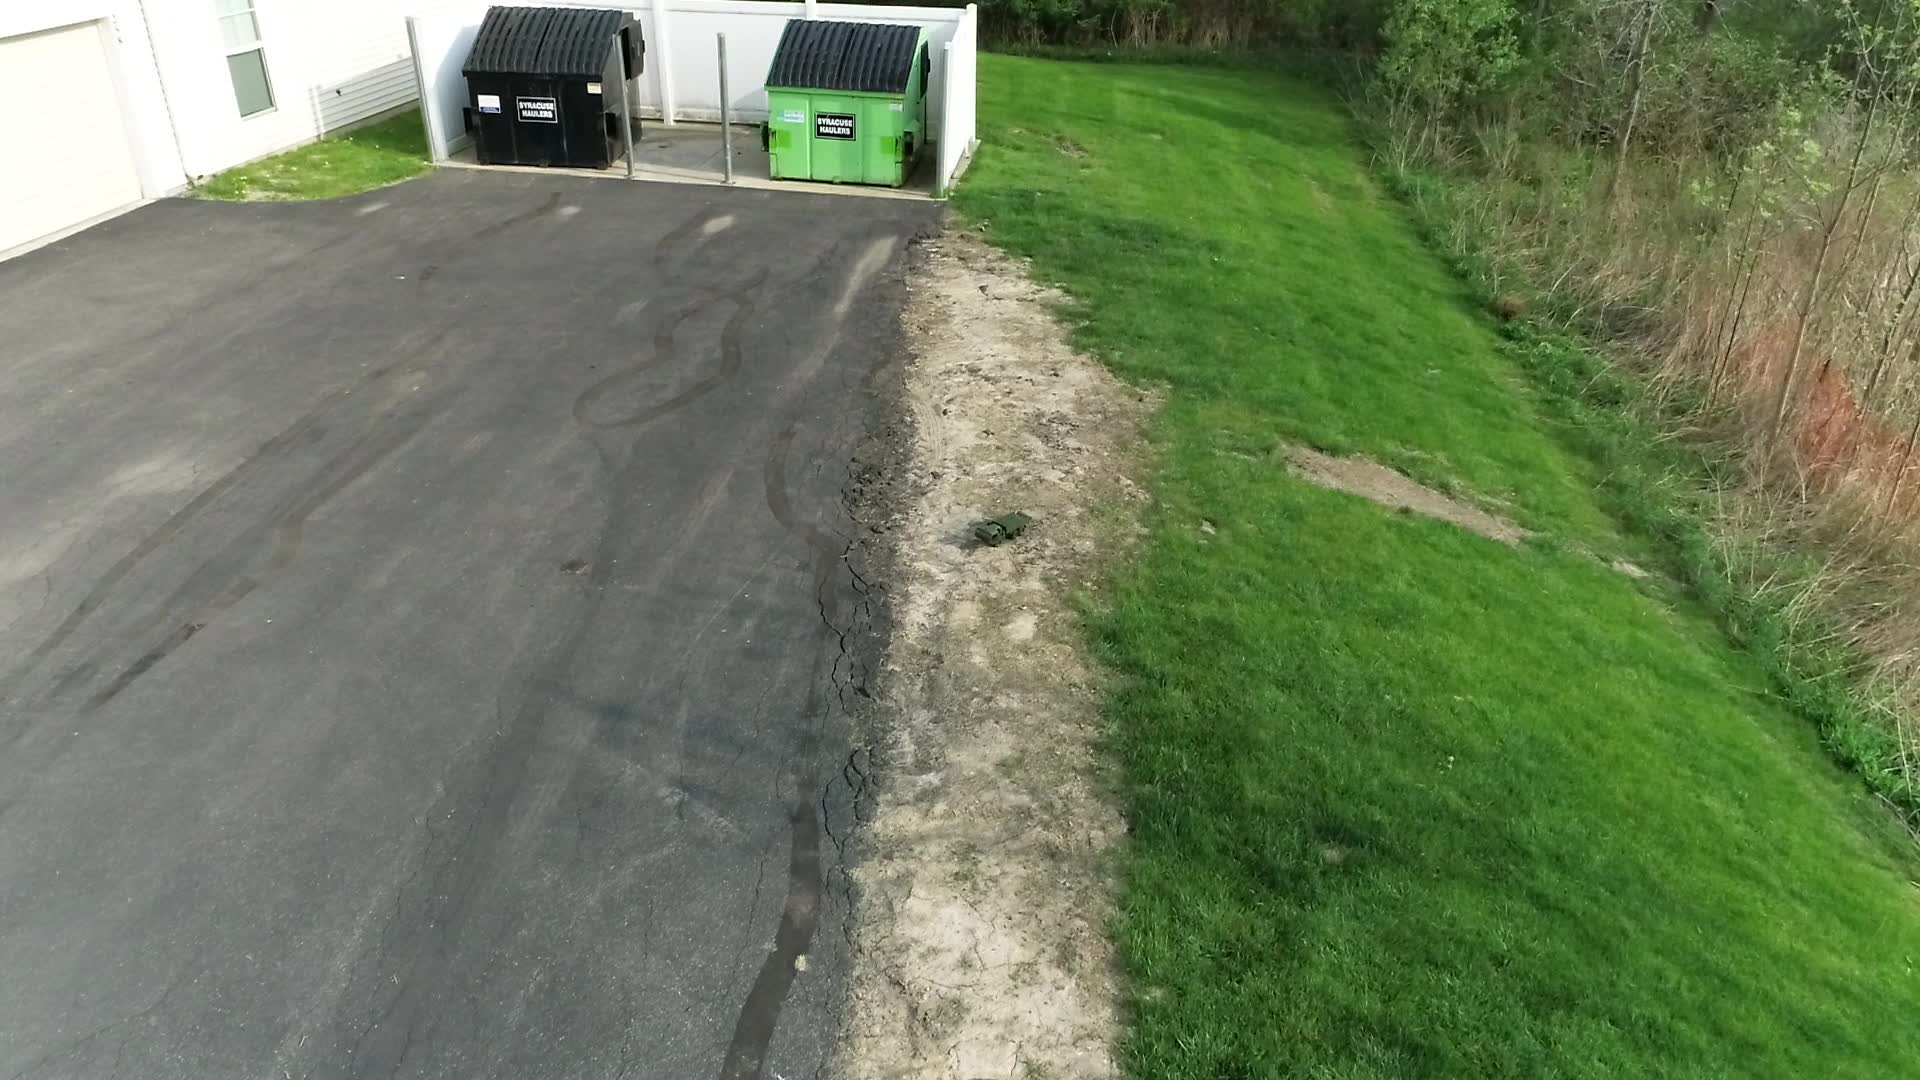transporter9: (975, 506, 1036, 546)
